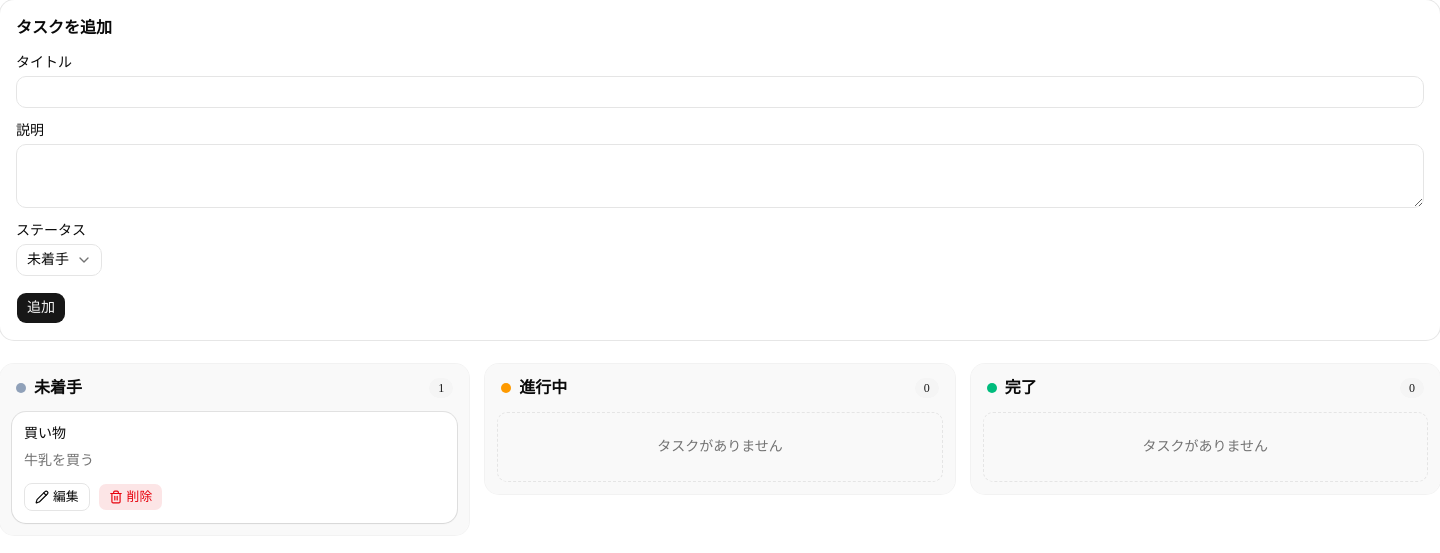
編集 › 編集ボタンを押すと、既存の内容が入力済みの編集フォームに切り替わる（順方向）
Expected: the element "未着手" is shown, x1=0 y1=364 x2=469 y2=535
Click the button with aria-label "買い物を編集" at (57, 497), box x1=24 y1=483 x2=90 y2=511
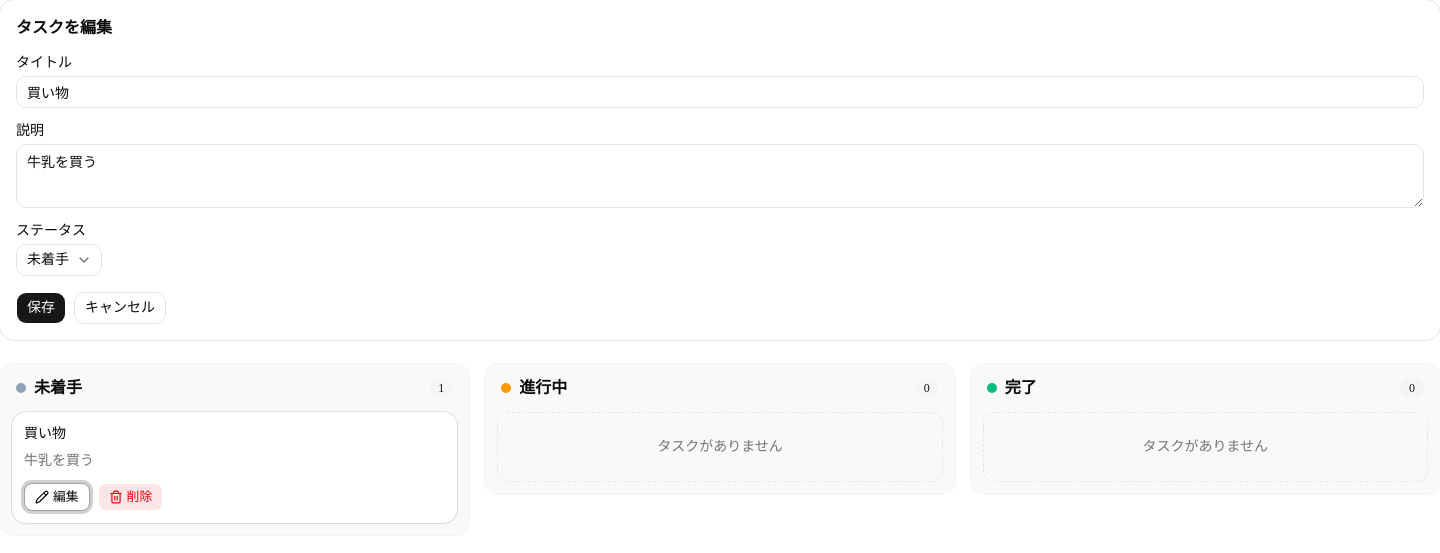
Result: the field labelled "タイトル" holds "買い物" at x1=16 y1=76 x2=1424 y2=108
Result: the text box labelled "説明" holds "牛乳を買う" at x1=16 y1=144 x2=1424 y2=208
Result: the button "保存" is shown at x1=16 y1=292 x2=66 y2=324
